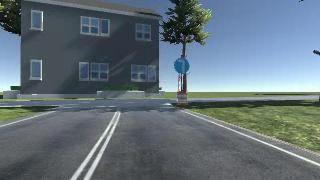turn_left: (174, 58, 190, 73)
